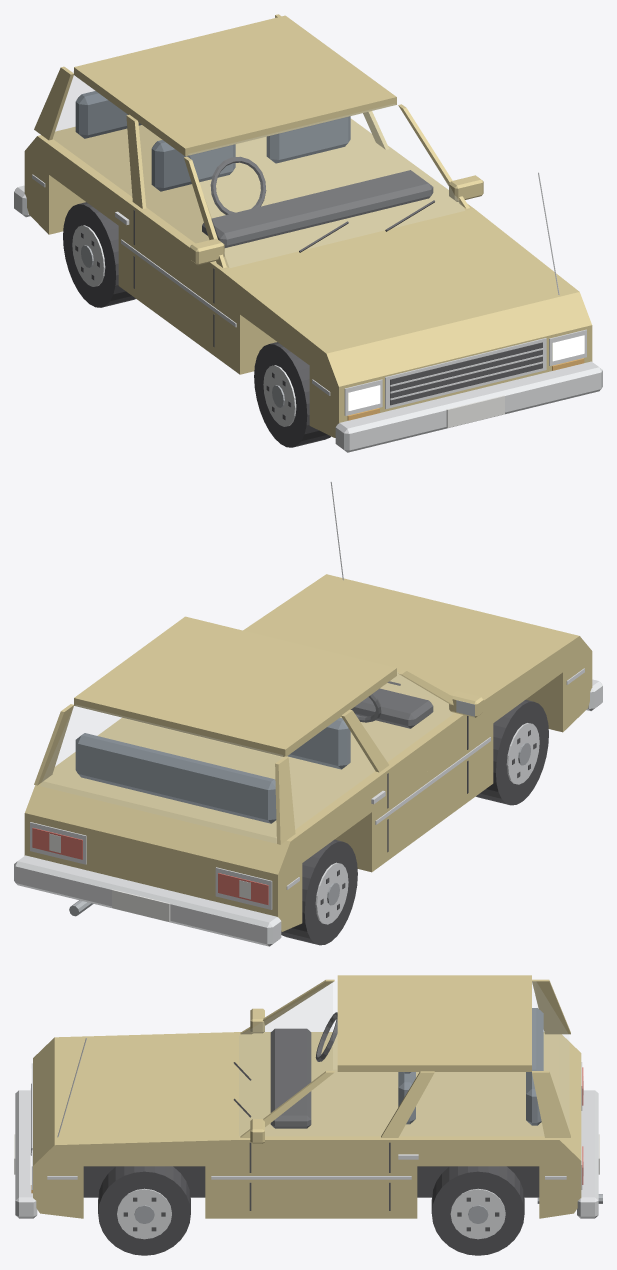
The model's file is car_hatch_y.glb.
The picture shows the model from 3 angles, top to bottom: view 1: azimuth 30°, elevation 25°; view 2: azimuth 150°, elevation 25°; view 3: azimuth 270°, elevation 25°; orthographic projection. The views are drawn at different scales.
Parts seen in each view (by area): view 1: car_hatch_y_car_y, car_hatch_y_glass, car_hatch_y_chrome, car_hatch_y_dark, car_hatch_y_rubber, car_hatch_y_vinyl, car_hatch_y_lamp_glass, car_hatch_y_paint_w; view 2: car_hatch_y_car_y, car_hatch_y_glass, car_hatch_y_chrome, car_hatch_y_vinyl, car_hatch_y_rubber, car_hatch_y_dark, car_hatch_y_neon_r, car_hatch_y_paint_w, car_hatch_y_steel; view 3: car_hatch_y_car_y, car_hatch_y_glass, car_hatch_y_rubber, car_hatch_y_chrome, car_hatch_y_dark, car_hatch_y_vinyl, car_hatch_y_steel.
Part boxes in pixels (<box>): car_hatch_y_car_y: <box>24,14,592,437</box>; car_hatch_y_glass: <box>53,72,464,267</box>; car_hatch_y_chrome: <box>14,172,602,452</box>; car_hatch_y_dark: <box>75,156,542,420</box>; car_hatch_y_rubber: <box>63,202,330,447</box>; car_hatch_y_vinyl: <box>75,91,350,191</box>; car_hatch_y_lamp_glass: <box>348,335,584,410</box>; car_hatch_y_paint_w: <box>446,395,504,427</box>; car_hatch_y_car_y: <box>24,574,592,931</box>; car_hatch_y_glass: <box>41,672,452,842</box>; car_hatch_y_chrome: <box>14,481,602,946</box>; car_hatch_y_vinyl: <box>75,718,350,823</box>; car_hatch_y_rubber: <box>281,699,548,945</box>; car_hatch_y_dark: <box>320,681,536,917</box>; car_hatch_y_neon_r: <box>32,828,268,904</box>; car_hatch_y_paint_w: <box>49,833,250,921</box>; car_hatch_y_steel: <box>69,742,530,916</box>; car_hatch_y_car_y: <box>33,975,581,1218</box>; car_hatch_y_glass: <box>239,982,568,1135</box>; car_hatch_y_rubber: <box>83,1166,539,1255</box>; car_hatch_y_chrome: <box>15,1038,598,1239</box>; car_hatch_y_dark: <box>31,1012,499,1231</box>; car_hatch_y_vinyl: <box>398,1008,543,1125</box>; car_hatch_y_steel: <box>134,1194,602,1223</box>.
Bounding box in the file's own units: 2 × 1.6 × 4.06.
